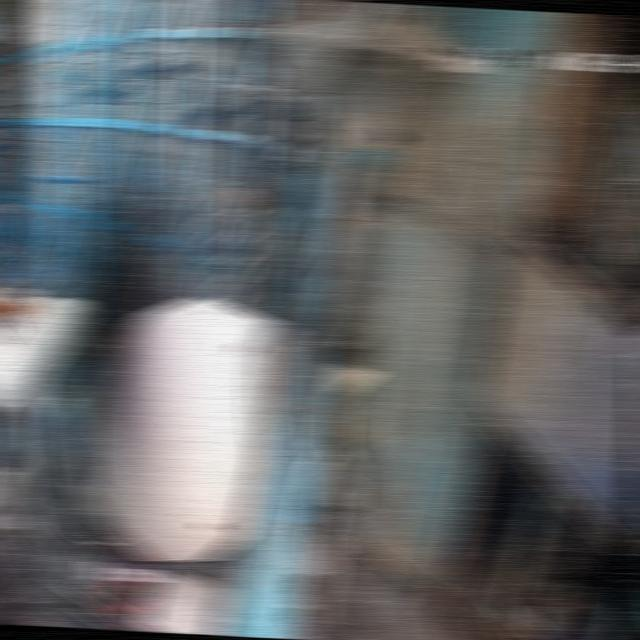cement_mixer_truck: (0, 285, 387, 640)
swing_chute: (287, 121, 406, 346)
